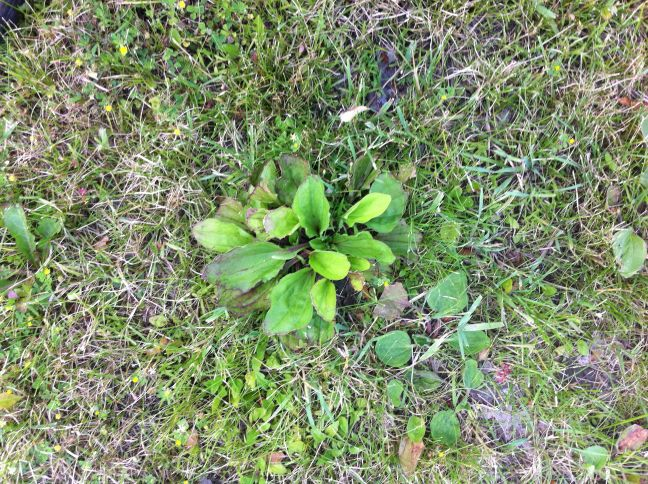weed1: (190, 156, 428, 333), (369, 272, 489, 369)
